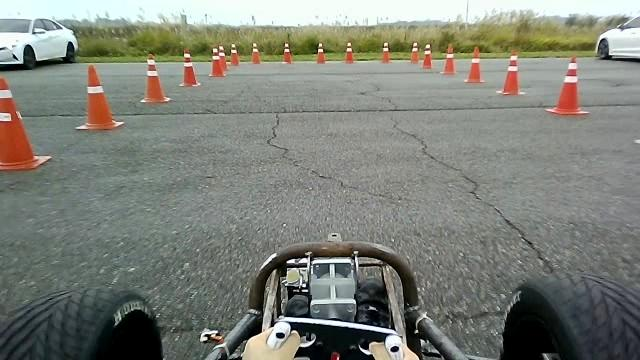red cone: (75, 63, 124, 130), (545, 55, 589, 115), (139, 53, 170, 103), (496, 49, 525, 95), (178, 48, 200, 87), (464, 46, 485, 83), (439, 43, 456, 74), (421, 43, 432, 68), (380, 41, 391, 63), (250, 41, 260, 64), (229, 42, 239, 65), (282, 41, 292, 63), (344, 41, 354, 63), (315, 41, 325, 63), (410, 41, 419, 63)
